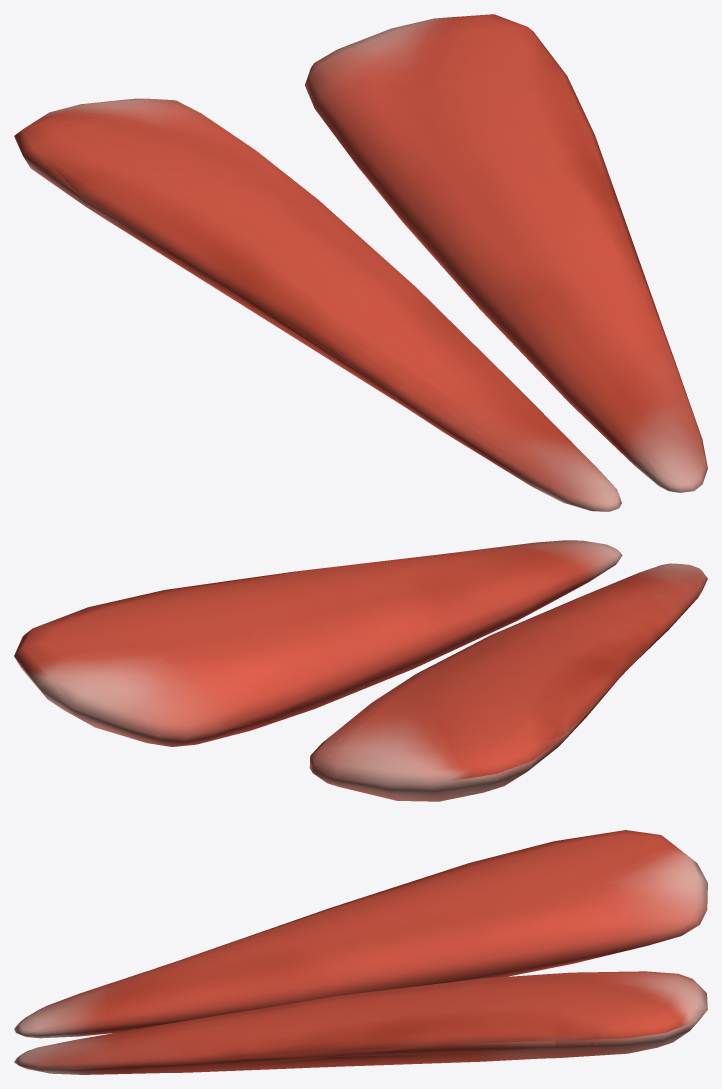
Rendered from digastricus.fbx.
3 renders of one model, top to bottom at view 1: azimuth 30°, elevation 25°; view 2: azimuth 150°, elevation 25°; view 3: azimuth 270°, elevation 25°, orthographic. The views are drawn at different scales.
Visible parts, largest first — view 1: digastricus, digastricus high, digastricus low; view 2: digastricus, digastricus low, digastricus high; view 3: digastricus, digastricus low, digastricus high.
Boxes of the visible parts, left/top/right/bottom form: digastricus: left=14, top=14, right=707, bottom=511; digastricus high: left=37, top=21, right=699, bottom=511; digastricus low: left=15, top=16, right=660, bottom=508; digastricus: left=14, top=540, right=707, bottom=801; digastricus low: left=15, top=548, right=703, bottom=784; digastricus high: left=31, top=545, right=698, bottom=789; digastricus: left=14, top=830, right=707, bottom=1074; digastricus low: left=24, top=830, right=707, bottom=1072; digastricus high: left=18, top=834, right=699, bottom=1068.
Bounding box in the file's own units: 6.8 × 1.97 × 9.75.
1 material, 1 textured.
